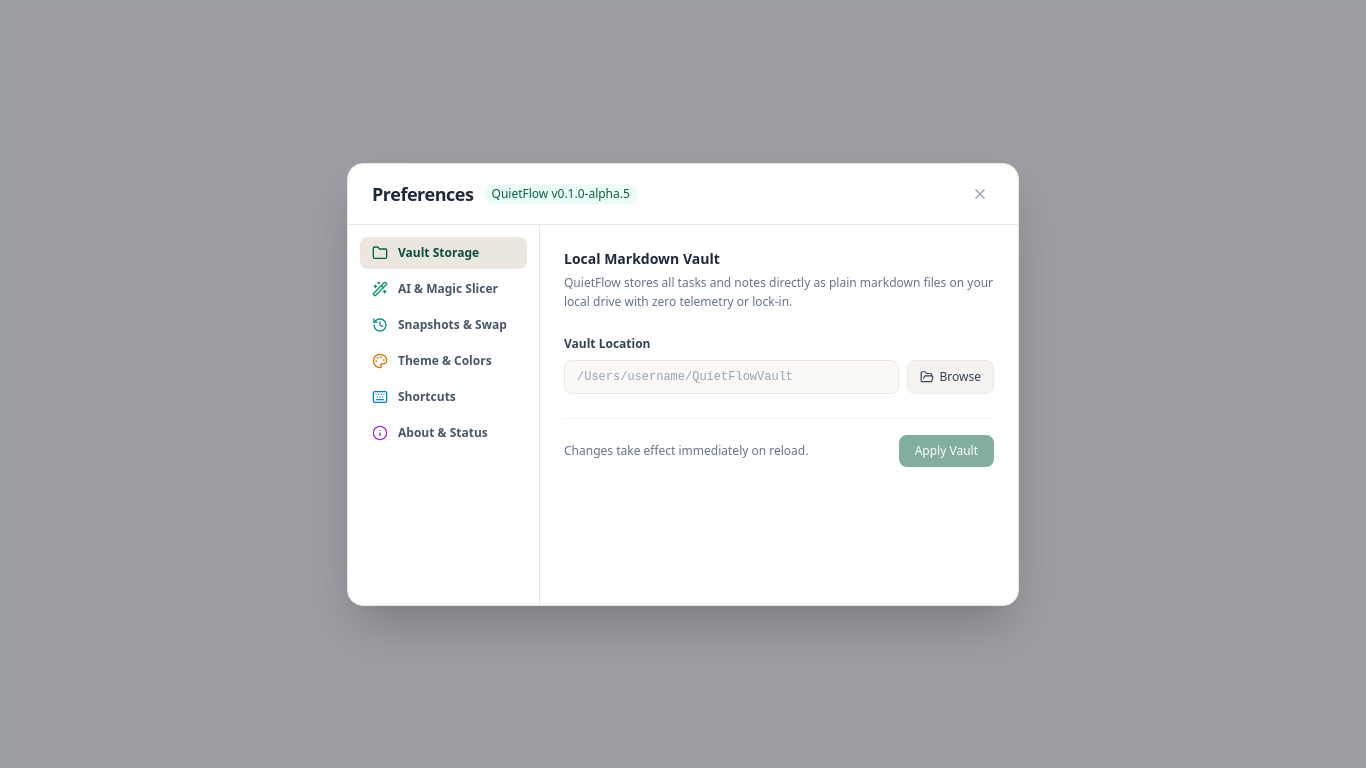
Test case: Vault Integrity & In-App Update UI Simulation Test Suite › Settings modal detects update, downloads with progress bar, and presents relaunch button
The image size is (1366, 768).
// Switch to About tab
Click the button "About & Status" at (444, 432), box [360, 416, 527, 448]
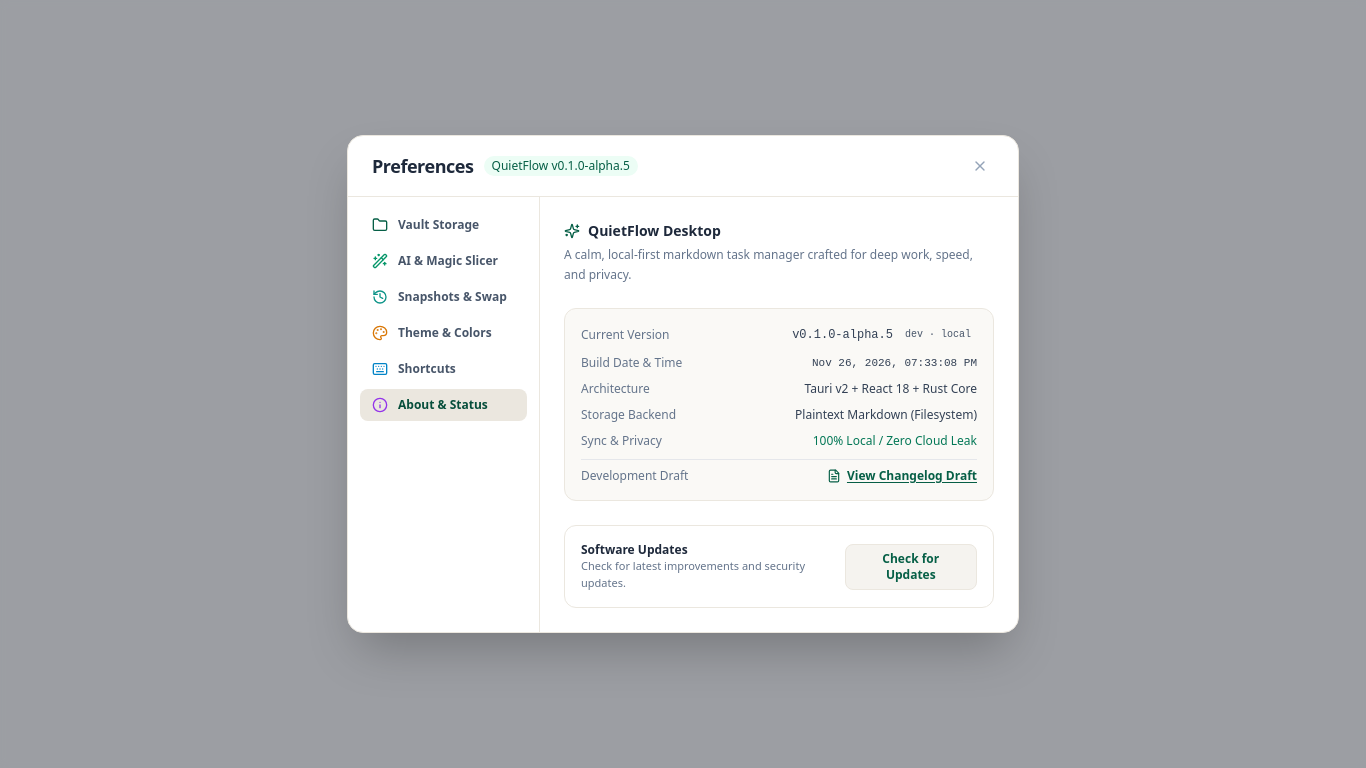
// Click Check for Updates
Click the button with test id "check-updates-btn" at (911, 566), box [845, 544, 977, 590]
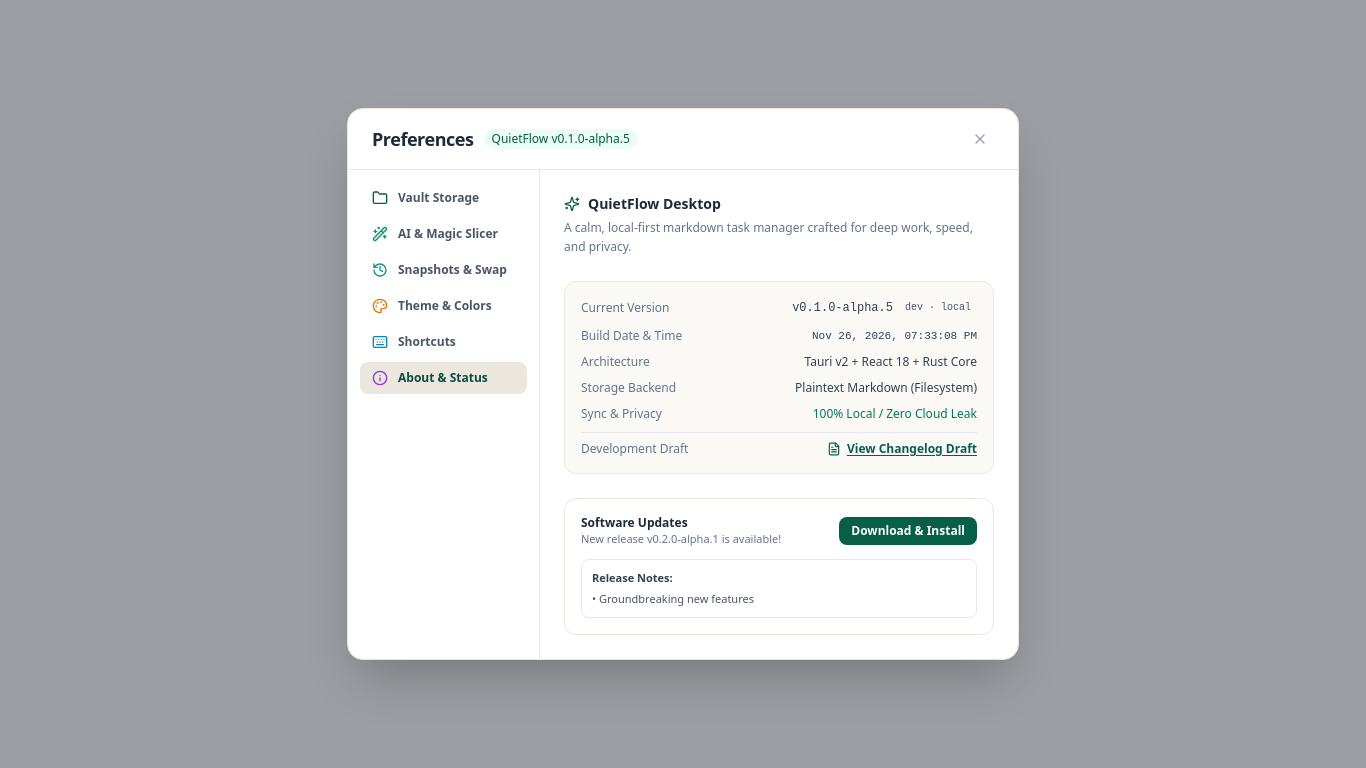
Expected: the text "New release v0.2.0-alpha.1 is available!" is shown, [581, 531, 781, 547]
// Click Download & Install
Click the button with test id "download-update-btn" at (908, 531), box [839, 517, 977, 545]
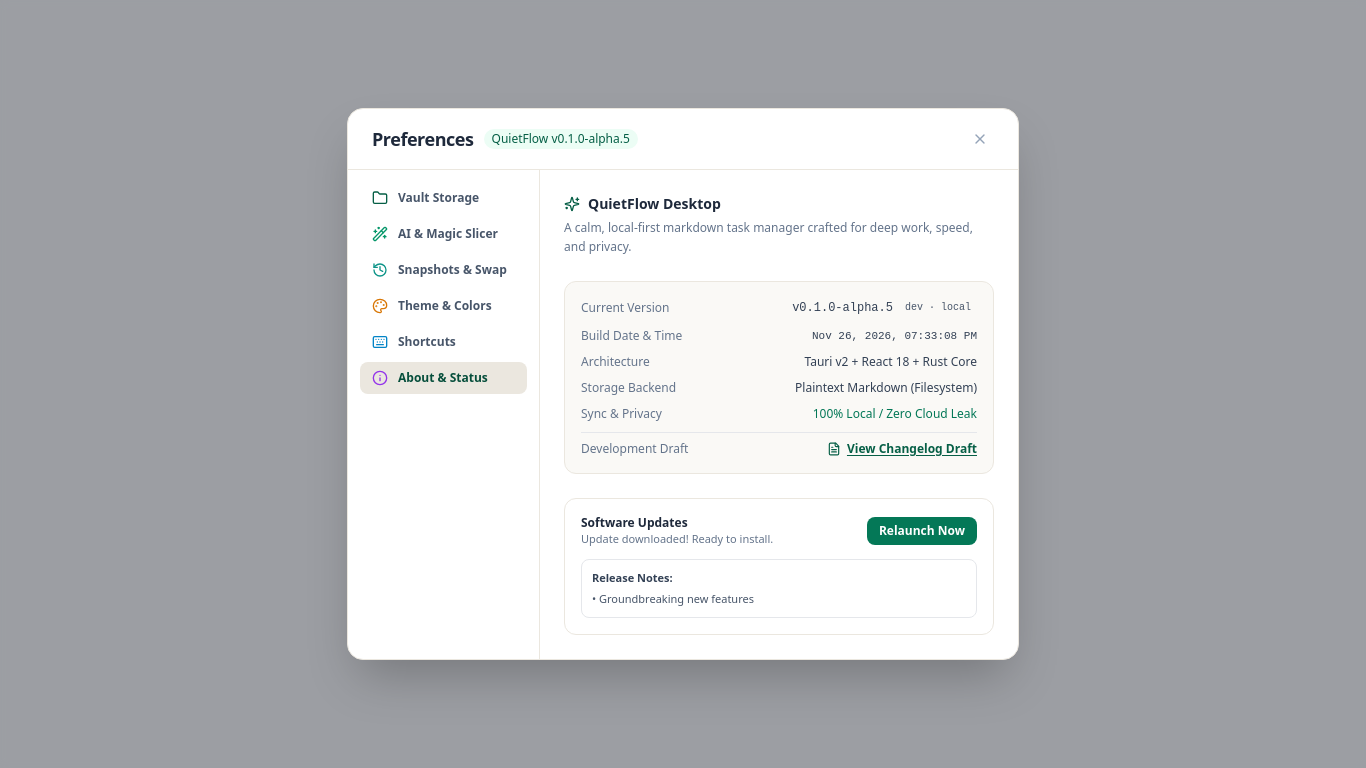
Expected: the button with test id "relaunch-update-btn" is shown, [867, 517, 977, 545]
